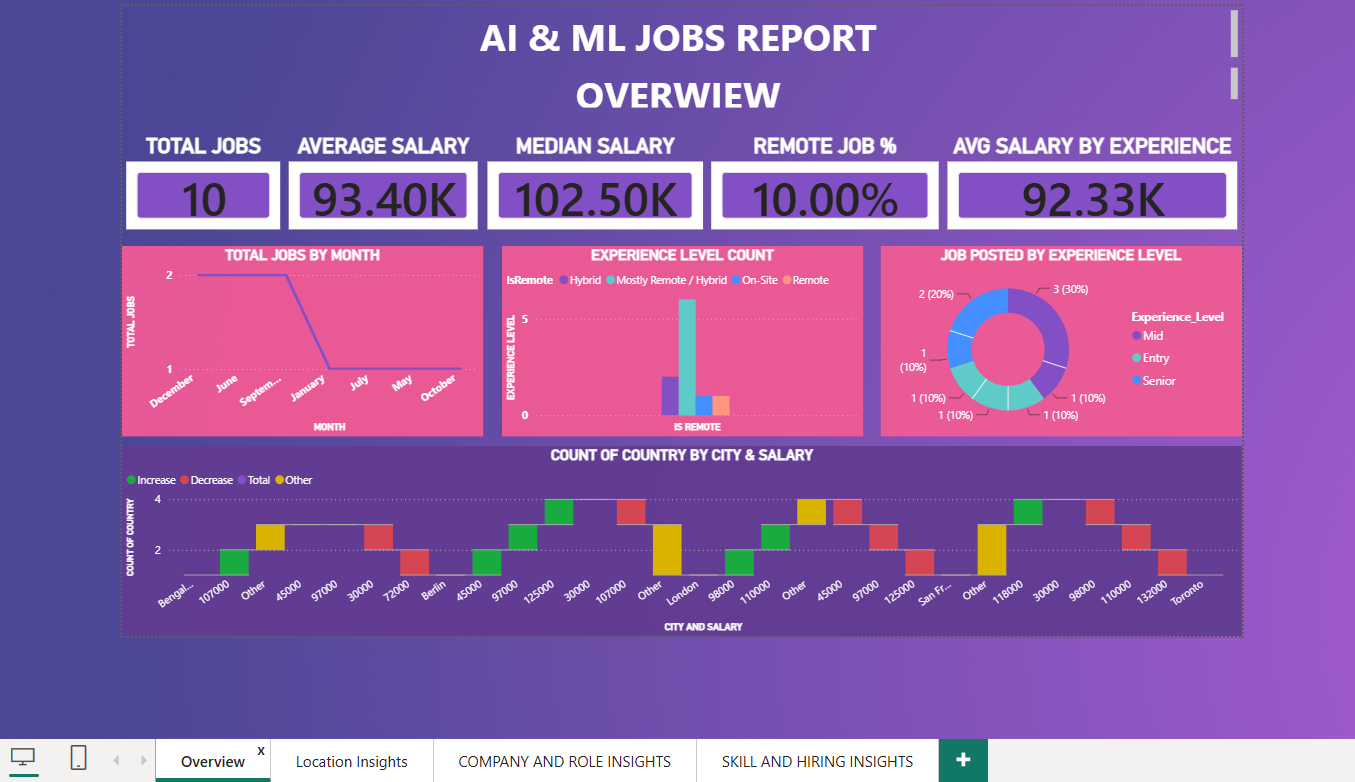

This screenshot's page, from the dashboard's own definition file:
{"tool":"powerbi","page":{"name":"Overview","canvas":[1280,720],"ordinal":0},"visuals":[{"type":"textbox","box":[0,65,1280,55],"z":0},{"type":"cardVisual","title":"TOTAL JOBS","fields":{"Data":["Fact_Jobs.TotalJobs"]},"box":[0,146.2,186.2,115],"z":1000},{"type":"cardVisual","title":"AVERAGE SALARY","fields":{"Data":["Fact_Jobs.AvgSalary"]},"box":[185.9,133.3,226.2,128.4],"z":2000},{"type":"cardVisual","title":"MEDIAN SALARY","fields":{"Data":["Fact_Jobs.MedianSalary"]},"box":[412.5,146.2,256.2,115],"z":3000},{"type":"cardVisual","title":"REMOTE JOB %","fields":{"Data":["Fact_Jobs.RemoteJob%"]},"box":[668.8,146.2,270,115],"z":4000},{"type":"cardVisual","title":"AVG SALARY BY EXPERIENCE","fields":{"Data":["Fact_Jobs.AvgSalaryByExperience"]},"box":[939.1,133.3,341.2,128.4],"z":5000},{"type":"lineChart","title":"TOTAL JOBS BY MONTH","fields":{"Category":["Dim_Date.MonthName"],"Y":["Fact_Jobs.TotalJobs"]},"box":[0,273.8,412.5,217.5],"z":6000},{"type":"clusteredColumnChart","title":"EXPERIENCE LEVEL COUNT","fields":{"Series":["Fact_Jobs.IsRemote"],"Y":["CountNonNull(Fact_Jobs.Experience_Level)"]},"box":[433.8,273.8,412.5,217.5],"z":7000},{"type":"donutChart","title":"JOB POSTED BY EXPERIENCE LEVEL","fields":{"Series":["Fact_Jobs.IsRemote"],"Y":["Fact_Jobs.TotalJobs"],"Category":["Fact_Jobs.Experience_Level"]},"box":[867.5,273.8,412.5,217.5],"z":8000},{"type":"waterfallChart","title":"COUNT OF COUNTRY BY CITY & SALARY","fields":{"Category":["Dim_Locations.City"],"Breakdown":["Fact_Jobs.Salary_USD"],"Y":["CountNonNull(Dim_Locations.Country)"]},"box":[0,502.5,1280,217.5],"z":9000},{"type":"textbox","box":[0,0,1280,65],"z":10000}]}

Visuals, with their boxes on the page's 1280x720 design canvas (x1, y1, x2, y2). These are canvas units, not pixel positions in the 1355x782 screenshot, which may show the page scaled, cropped or inside an application window:
textbox: {"x1": 0, "y1": 65, "x2": 1280, "y2": 120}
"TOTAL JOBS" cardVisual: {"x1": 0, "y1": 146, "x2": 186, "y2": 261}
"AVERAGE SALARY" cardVisual: {"x1": 186, "y1": 133, "x2": 412, "y2": 262}
"MEDIAN SALARY" cardVisual: {"x1": 412, "y1": 146, "x2": 669, "y2": 261}
"REMOTE JOB %" cardVisual: {"x1": 669, "y1": 146, "x2": 939, "y2": 261}
"AVG SALARY BY EXPERIENCE" cardVisual: {"x1": 939, "y1": 133, "x2": 1280, "y2": 262}
"TOTAL JOBS BY MONTH" lineChart: {"x1": 0, "y1": 274, "x2": 412, "y2": 491}
"EXPERIENCE LEVEL COUNT" clusteredColumnChart: {"x1": 434, "y1": 274, "x2": 846, "y2": 491}
"JOB POSTED BY EXPERIENCE LEVEL" donutChart: {"x1": 868, "y1": 274, "x2": 1280, "y2": 491}
"COUNT OF COUNTRY BY CITY & SALARY" waterfallChart: {"x1": 0, "y1": 502, "x2": 1280, "y2": 720}
textbox: {"x1": 0, "y1": 0, "x2": 1280, "y2": 65}
